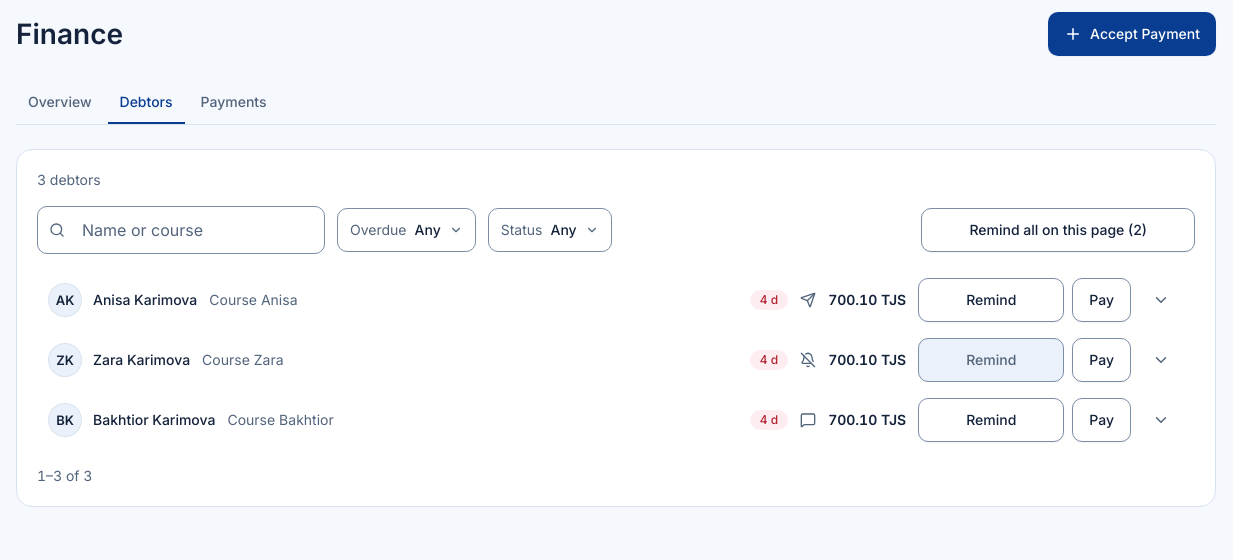
Debt reminder controls › shows the settings-disabled message on HTTP 409 and never claims success
The image size is (1233, 560).
Check: the text "Anisa Karimova" is shown, box [93,290,197,310]
Click the button with aria-label "Remind the parent of Anisa Karimova". click: point(991, 300)
box: [918,278,1064,322]
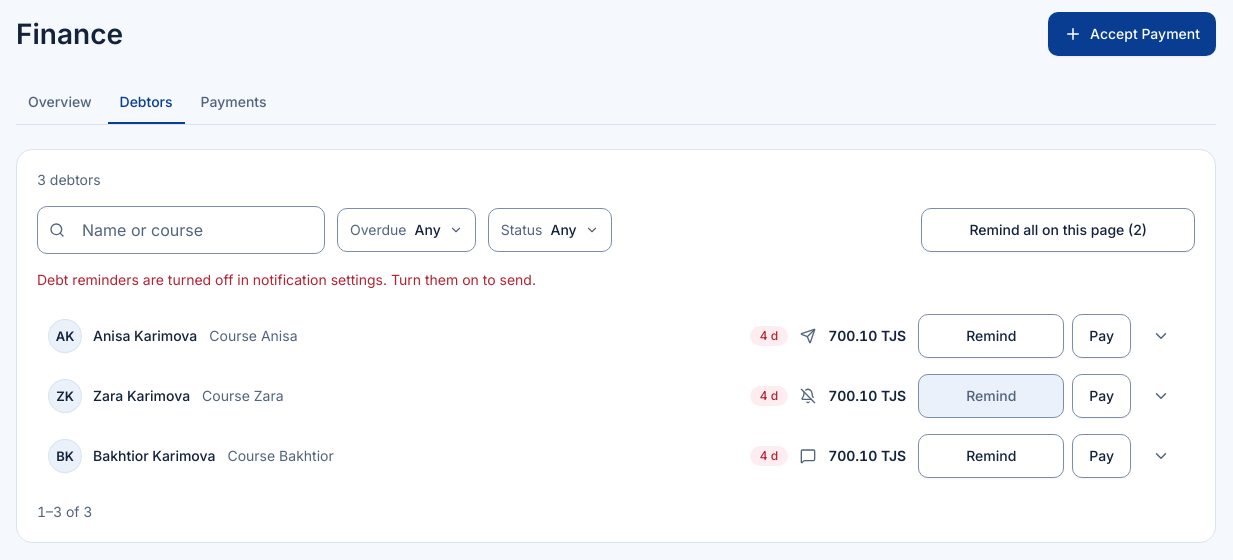
Check: the text "Debt reminders are turned off in notification settings. Turn them on to send." is shown, box [37,271,536,288]
